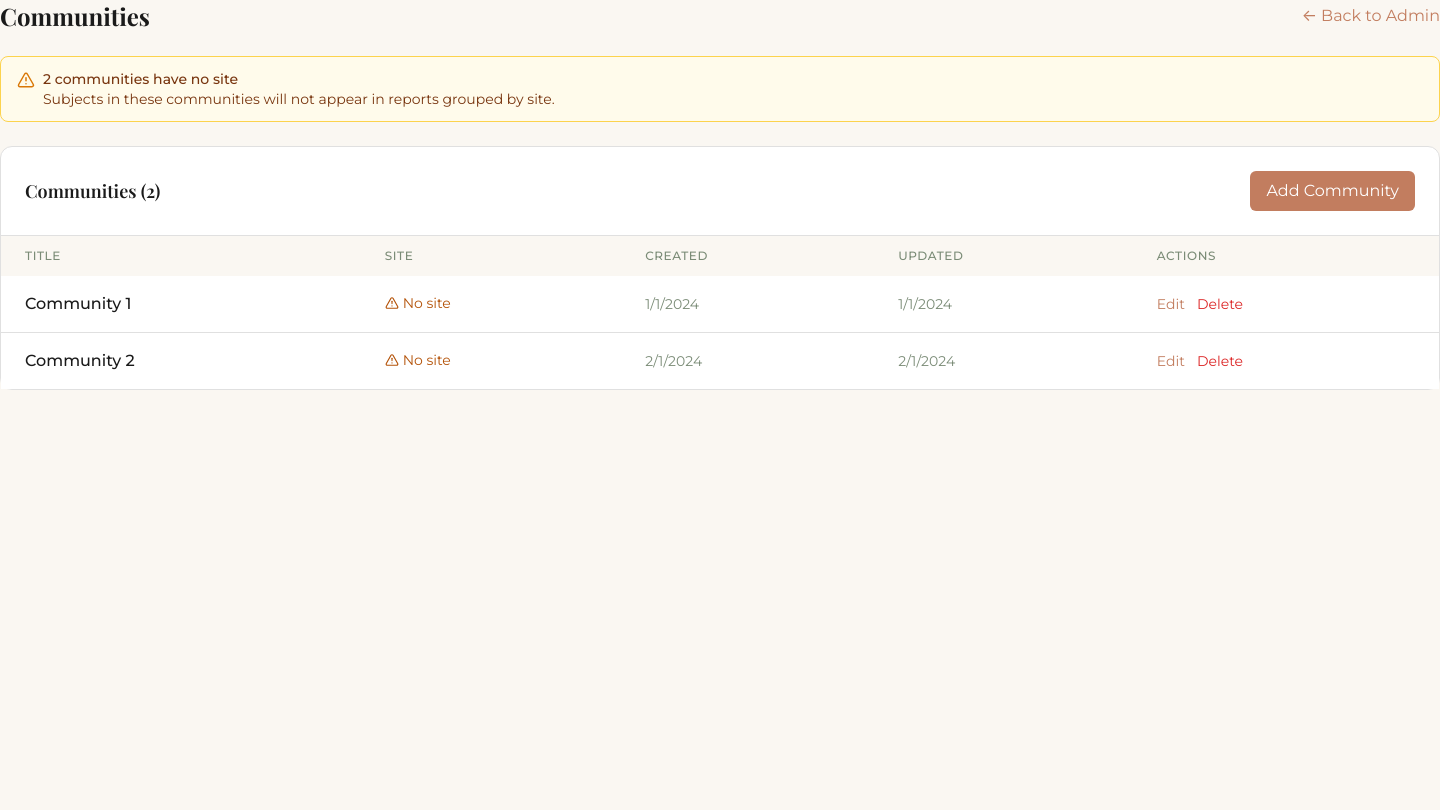
Scenario: AdminLookupsPage › delete confirmation › opens the ConfirmDialog instead of window.confirm
The width and height of the screenshot is (1440, 810).
Expected: the text "Community 1" is shown, [25,294,131,313]
Click the button "Delete" in the row of "Community 1" at (1220, 304), box [1197,294,1243,314]
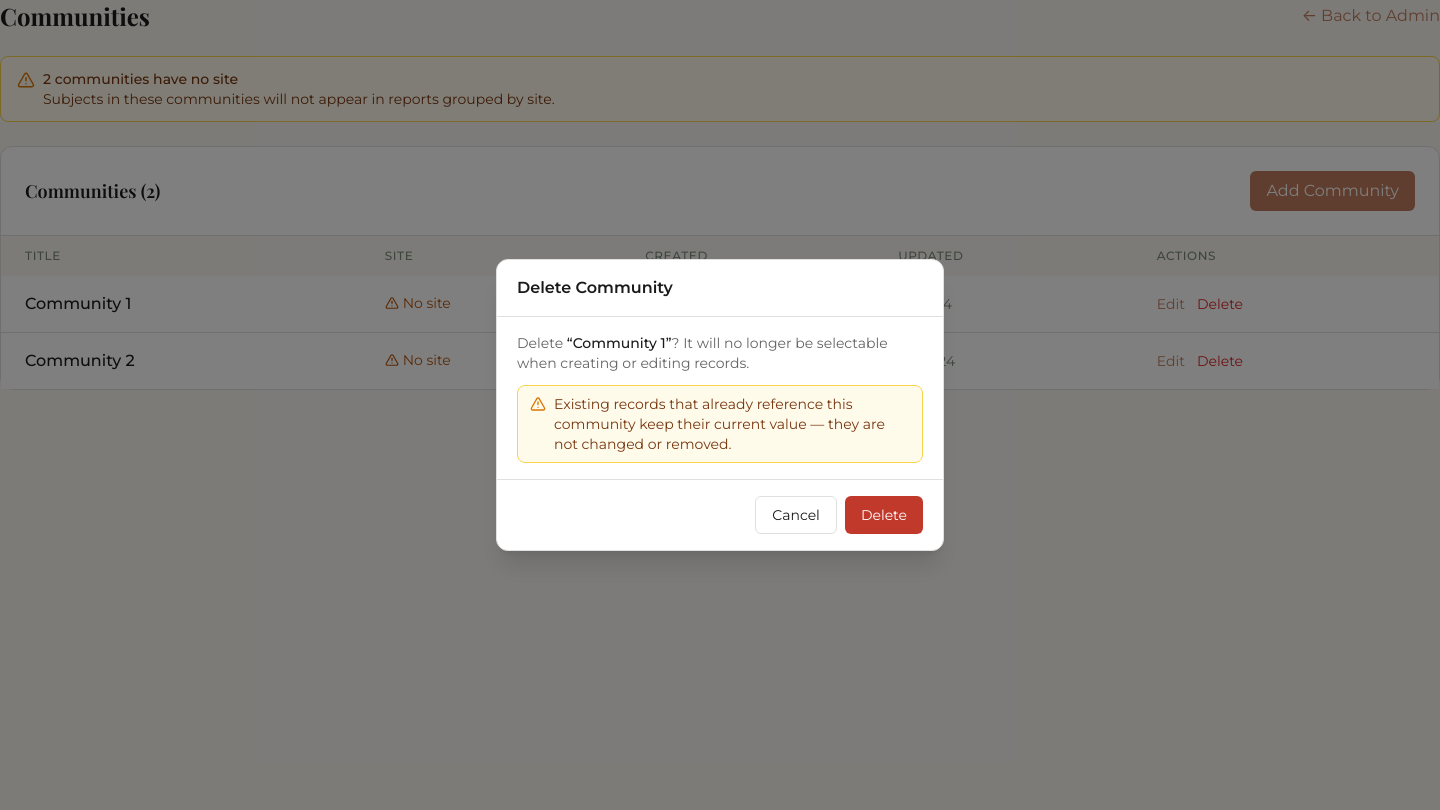
Expected: the heading "Delete Community" is shown, [517,278,673,297]
Expected: the text "“Community 1”" is shown, [567,334,672,352]
